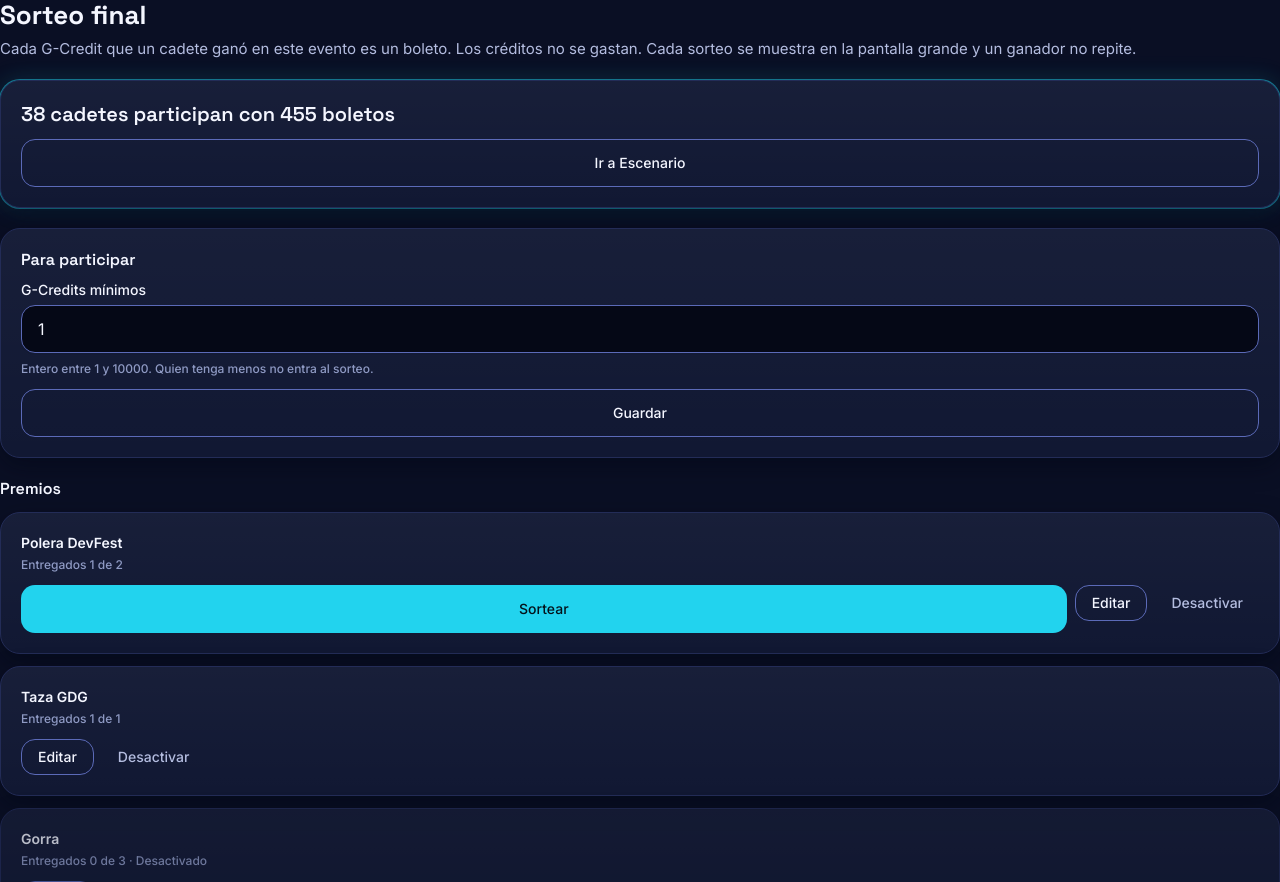
RaffleAdminView › asks before drawing, then says who won and refreshes
Click the button "Sortear". click: point(544, 609)
box: [21, 585, 1067, 633]
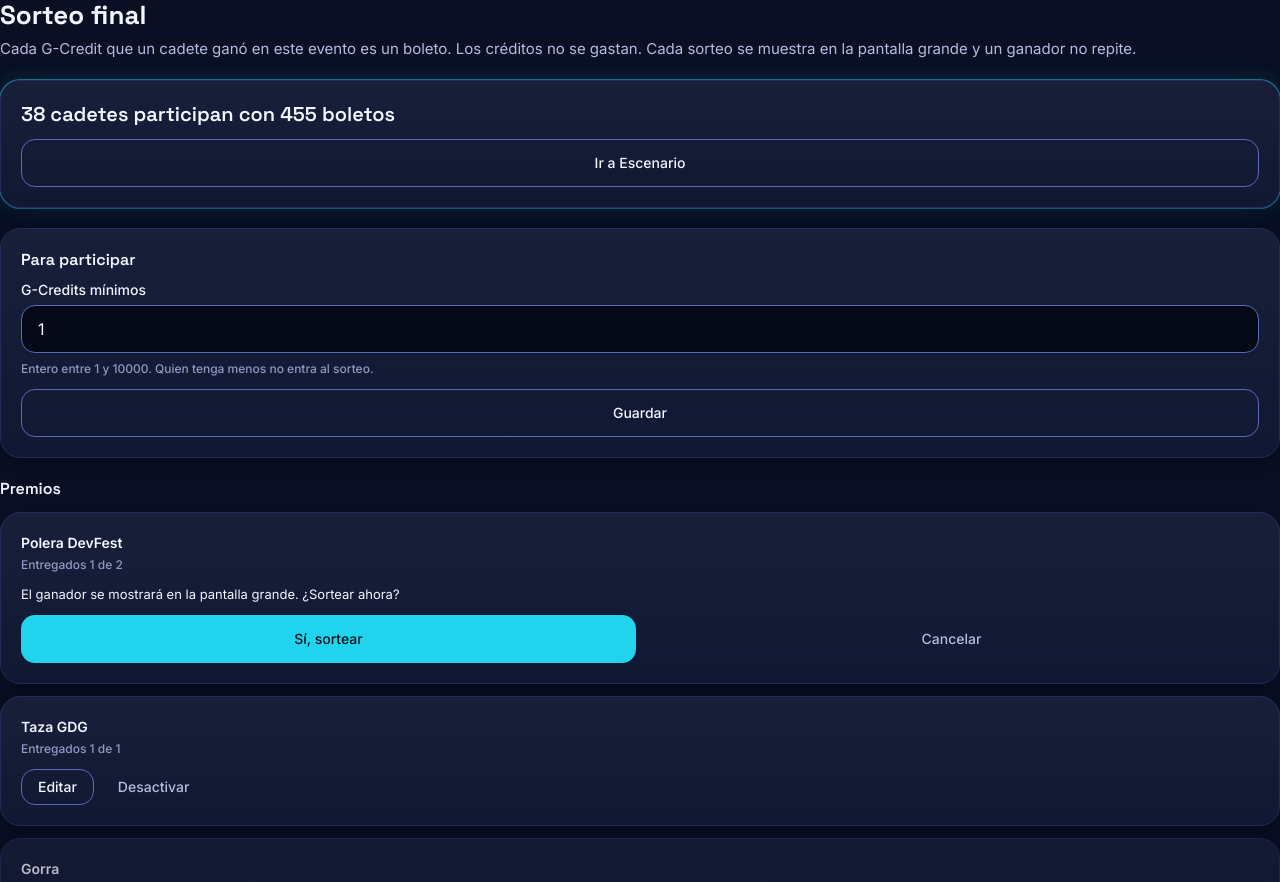
Result: the message reads "El ganador se mostrará en la pantalla grande. ¿Sortear ahora?" at [21, 586, 400, 602]
Click the button "Cancelar". click: point(952, 639)
box: [644, 615, 1259, 663]
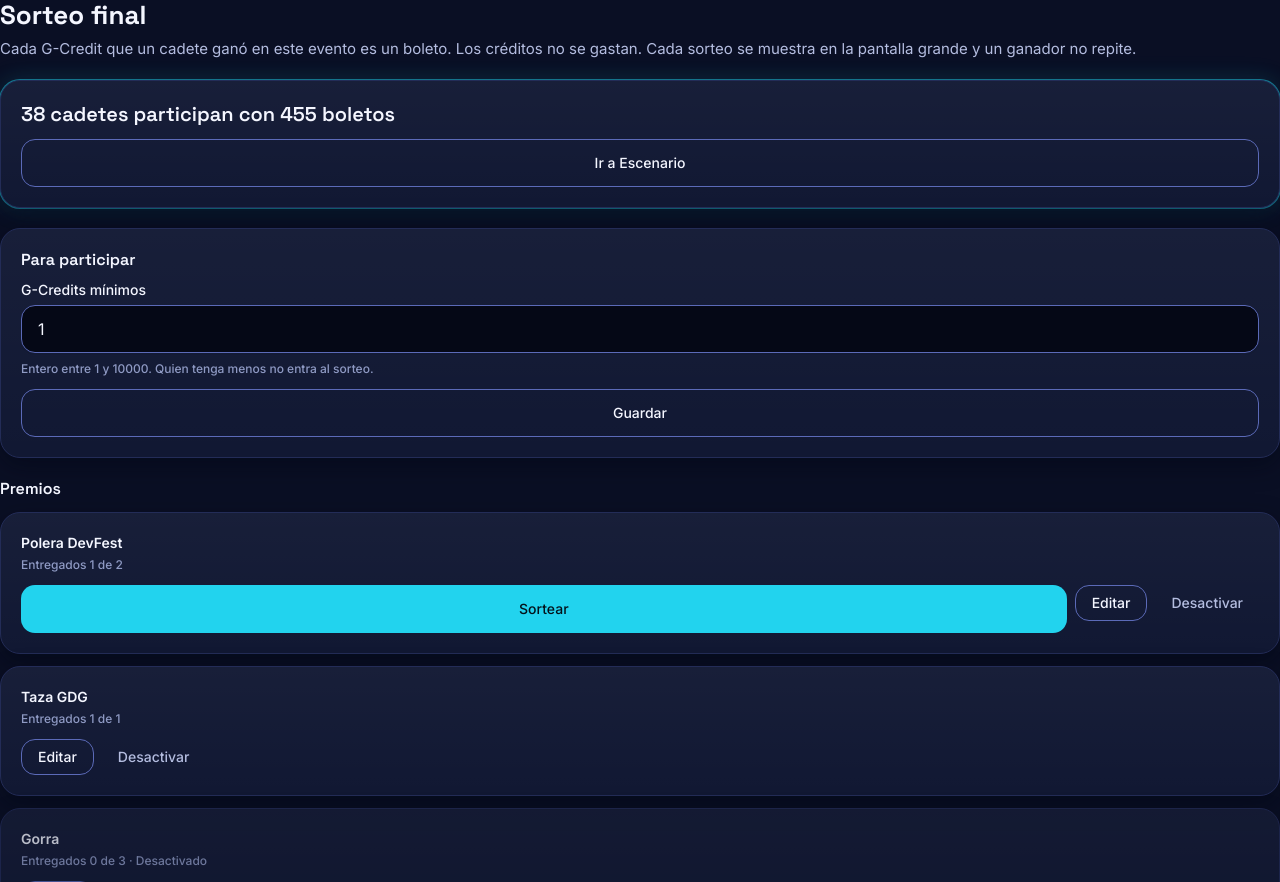
Click the button "Sortear". click: point(544, 609)
box: [21, 585, 1067, 633]
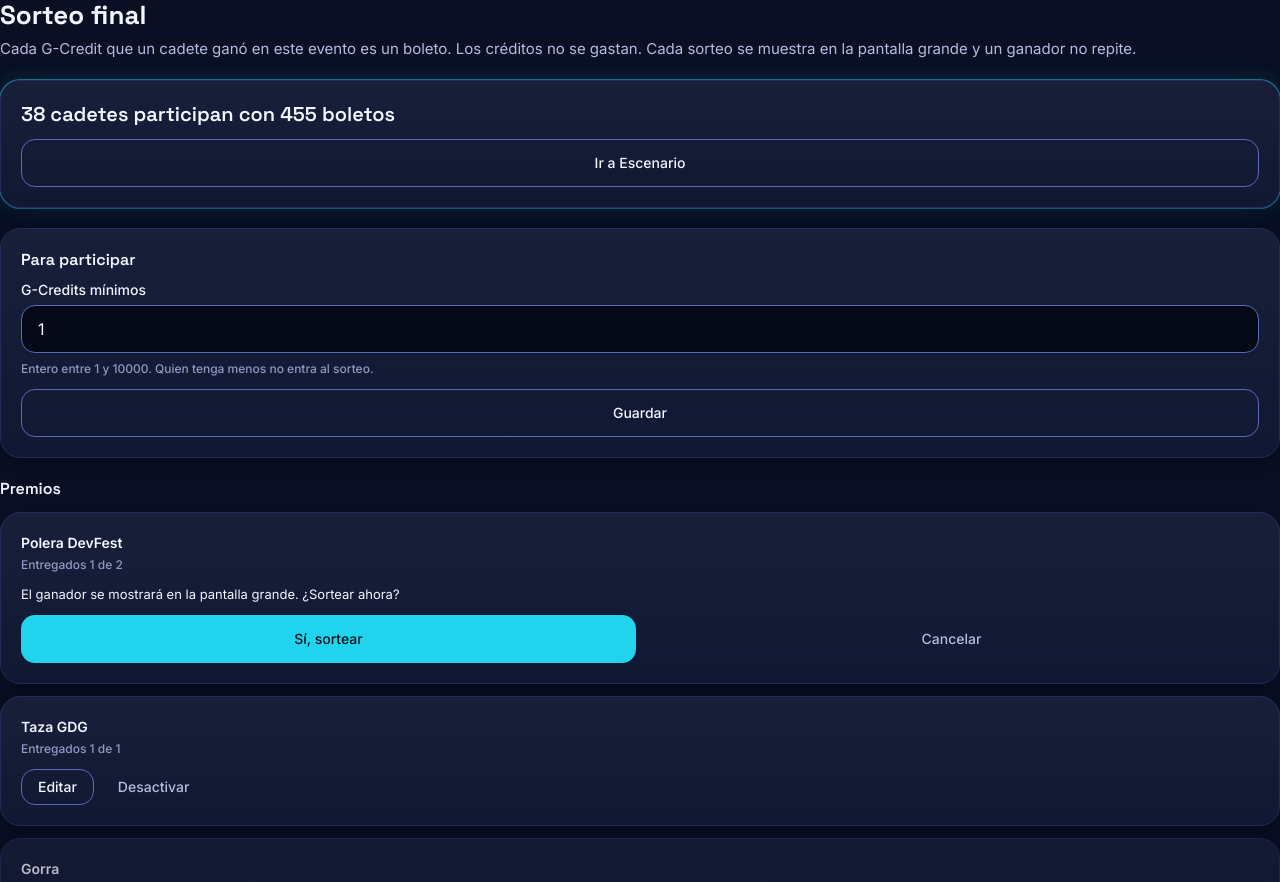
Click the button "Sí, sortear". click: point(328, 639)
box: [21, 615, 636, 663]
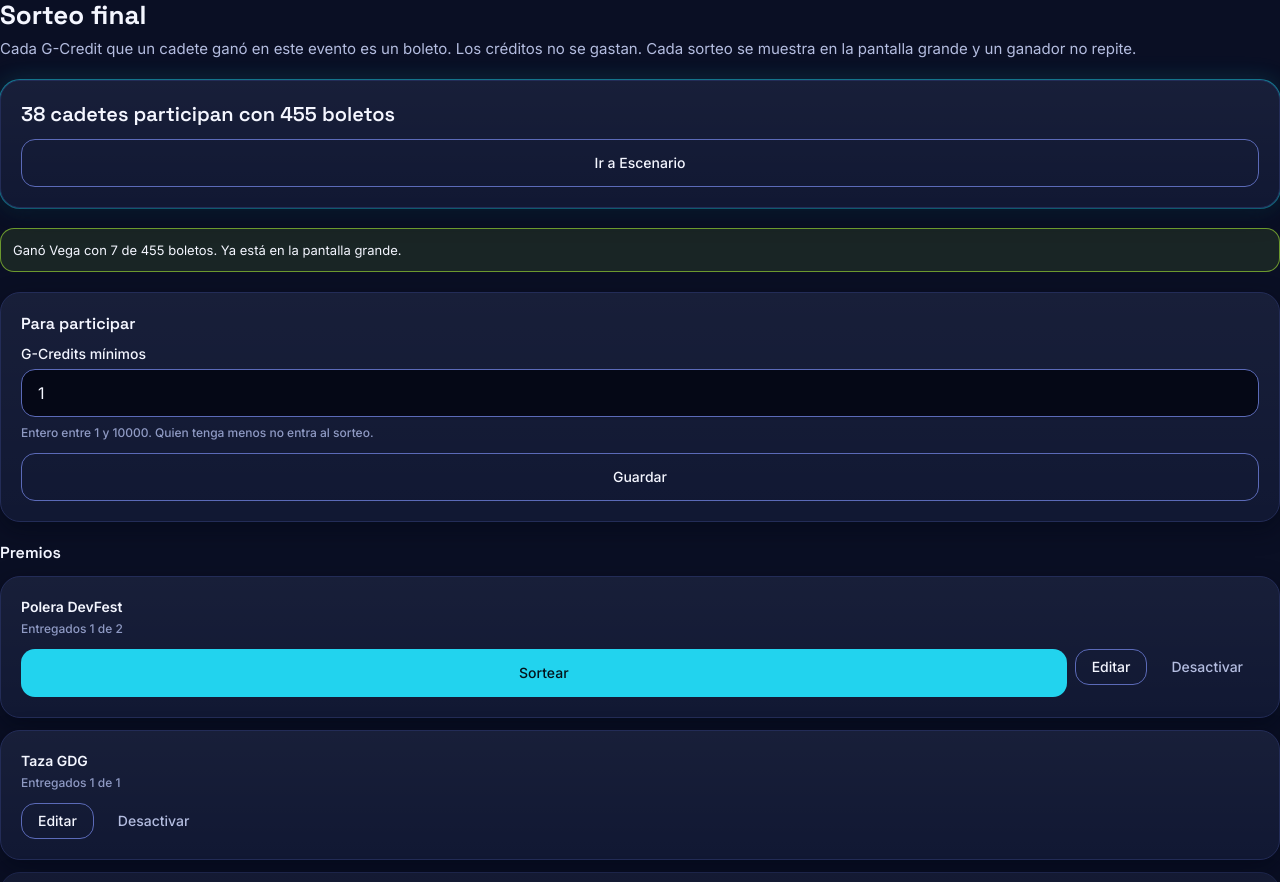
Result: the message reads "Ganó Vega con 7 de 455 boletos. Ya está en la pantalla grande." at [13, 242, 402, 258]
